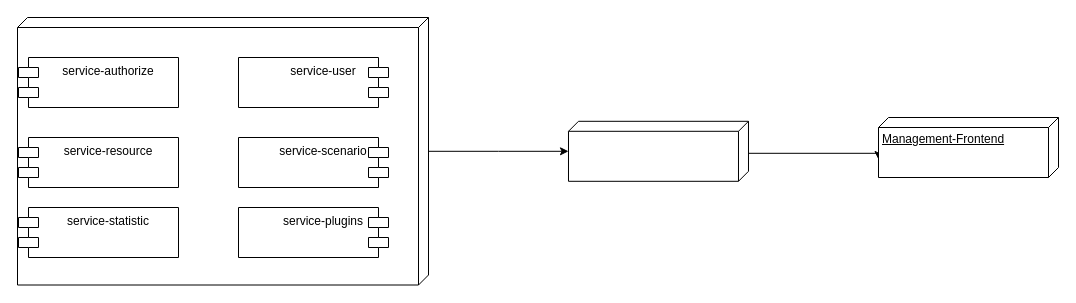
Some shapes in this 1076 by 303 pixel diagram are drawn without their labels. Each missing label, with the box of its shape:
gRPC service: (16, 16, 428, 285)
Webapi-gateway: (568, 120, 748, 181)
